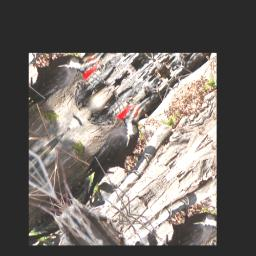Woodpecker: (56, 88, 184, 217)
